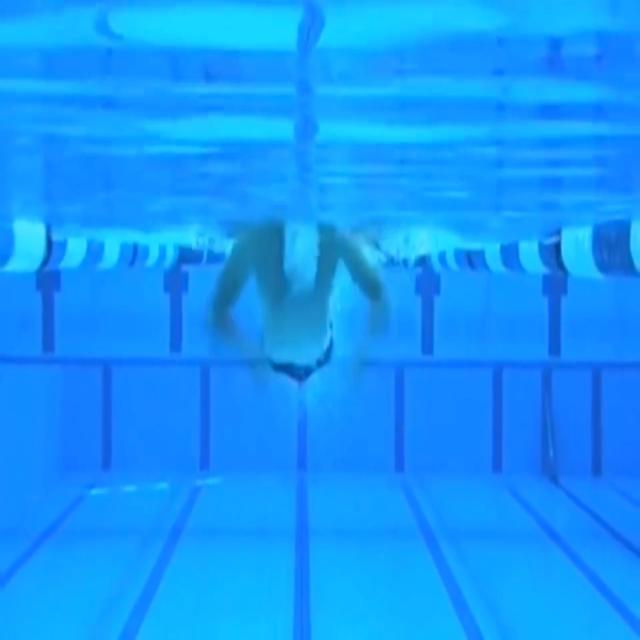Swimming: (209, 220, 394, 407)
